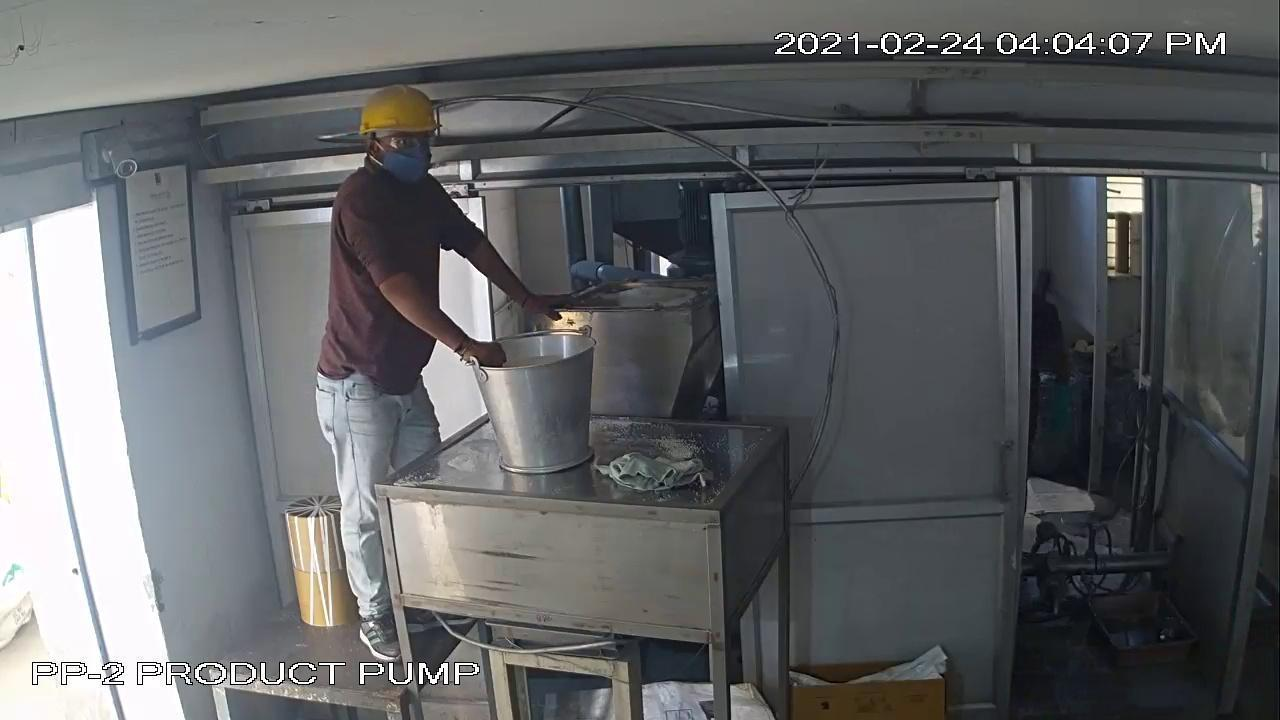helmet: (345, 72, 450, 147)
